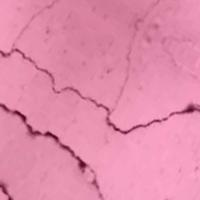crack: (0, 47, 198, 199)
